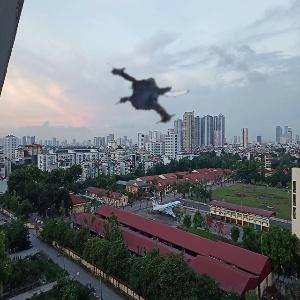drone: (101, 44, 205, 148)
